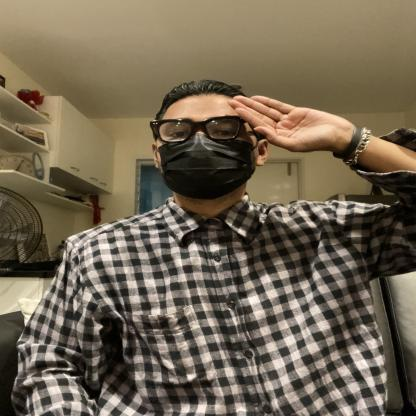Sick: (85, 81, 381, 176)
